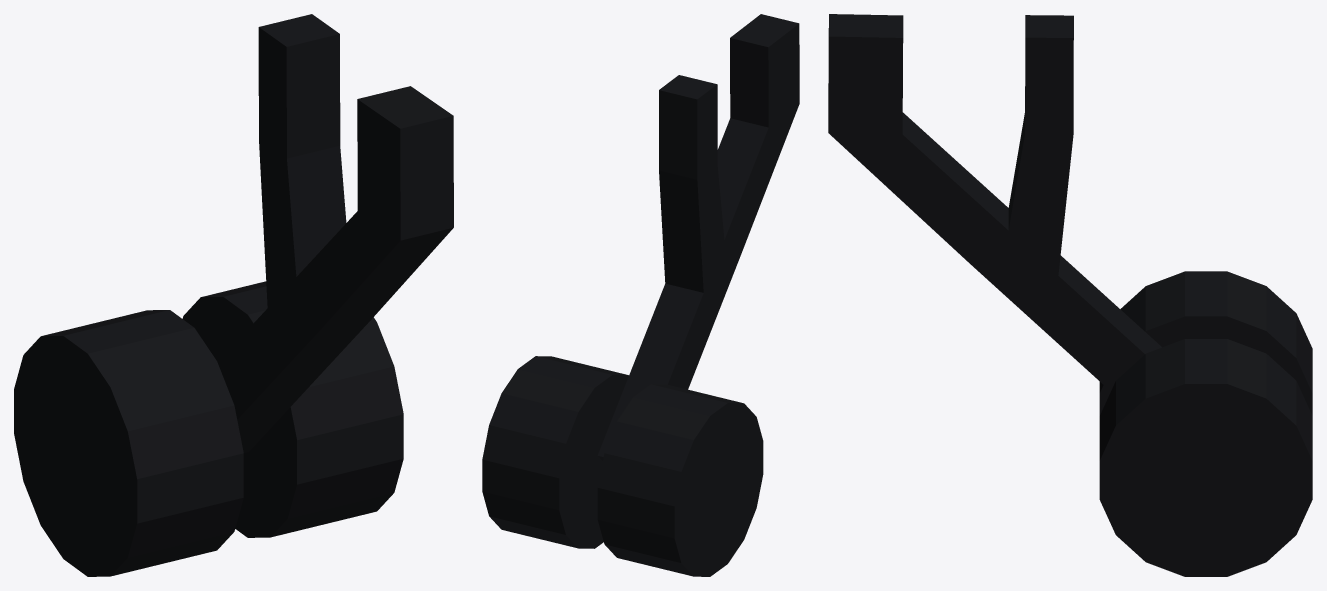
Rendered from gear.fbx.
3 renders of one model, left to right at view 1: azimuth 30°, elevation 25°; view 2: azimuth 150°, elevation 25°; view 3: azimuth 270°, elevation 25°, orthographic. The views are drawn at different scales.
Parts seen in each view (by area): view 1: cylinder; view 2: cylinder; view 3: cylinder.
Part boxes in pixels (left/top/right/bottom): cylinder: left=14, top=14, right=453, bottom=576; cylinder: left=482, top=14, right=799, bottom=576; cylinder: left=828, top=14, right=1312, bottom=576.
Bounding box in the file's own units: 10 × 20.53 × 18.19.
Materials: 1 (1 with a texture image).
